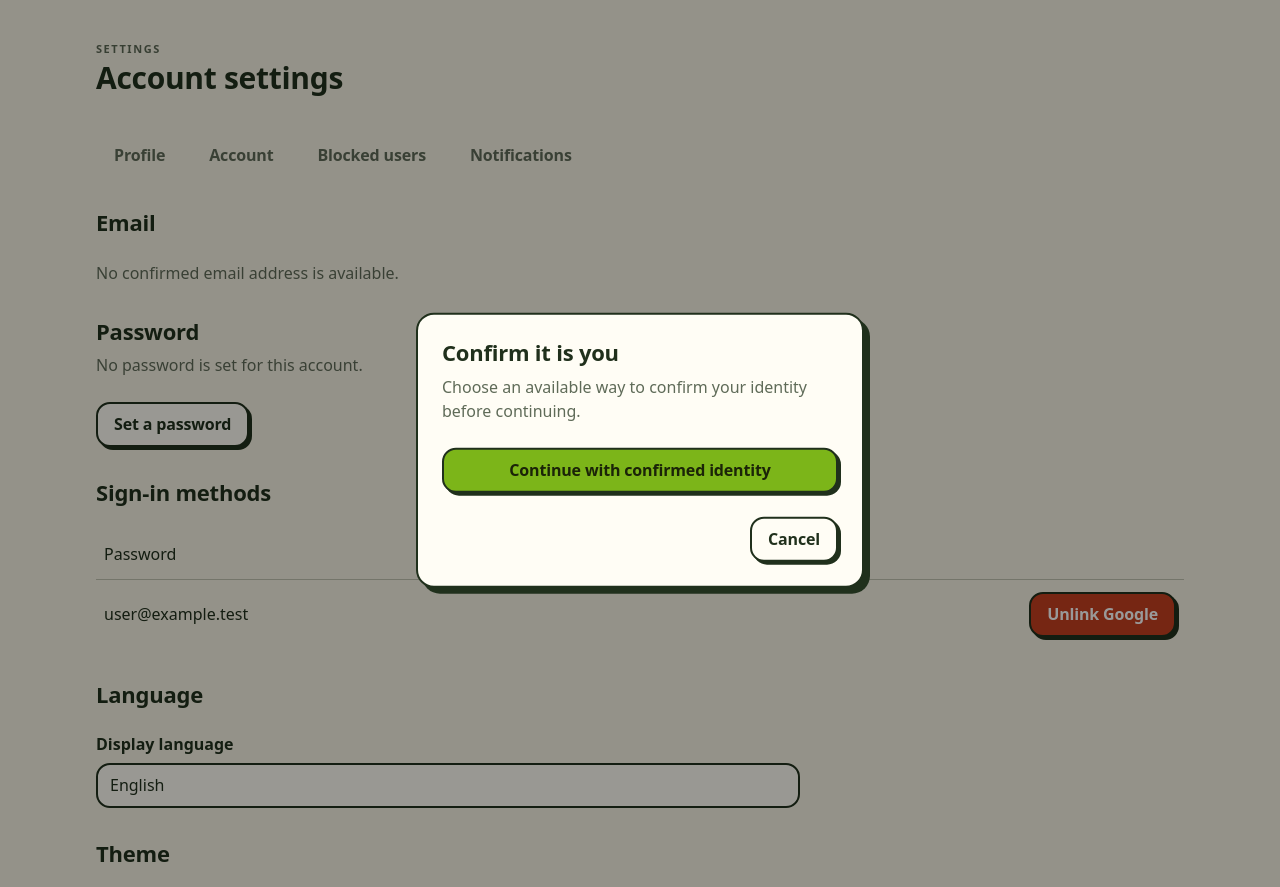
PasswordManagement › renders the set-password form for an account without a password and posts after reauth
Click the button "Continue with confirmed identity": (640, 470) top-left (442, 448), bottom-right (838, 493)
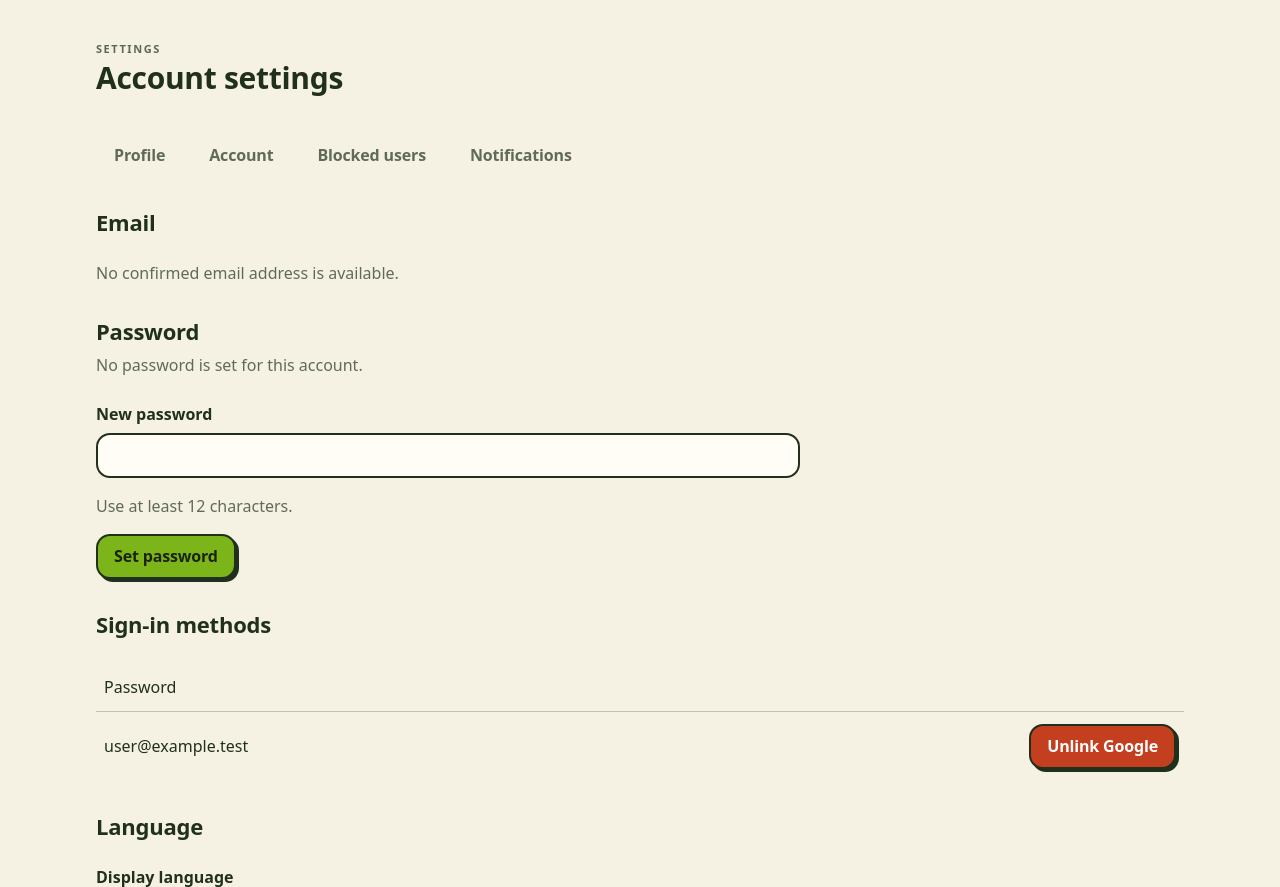
In the password field labelled "New password": (448, 455) top-left (96, 433), bottom-right (800, 478), type "brand-new-password-12"
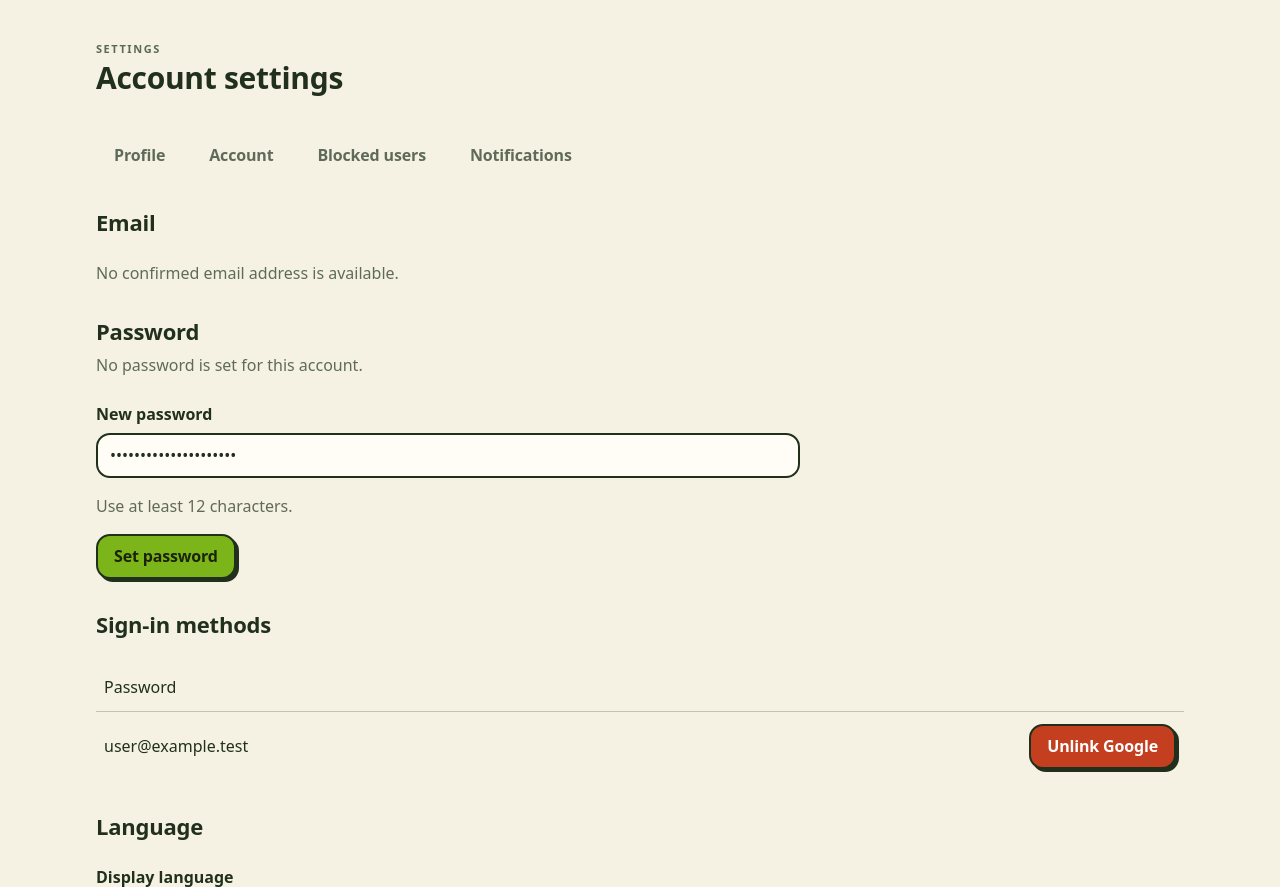
Click the button "Set password": (166, 557) top-left (96, 534), bottom-right (236, 579)
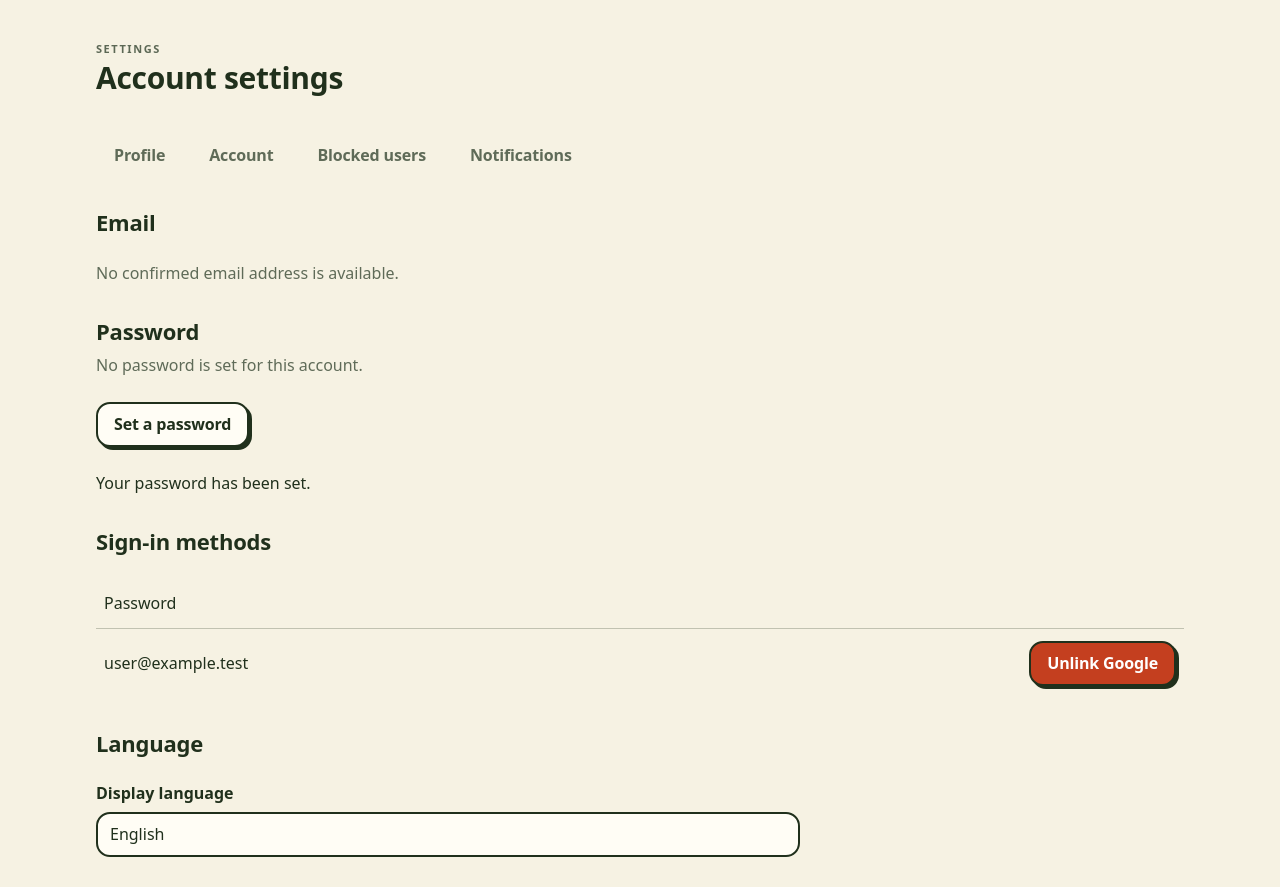
Expected: the message reads "Your password has been set.", top-left (96, 472), bottom-right (311, 494)
